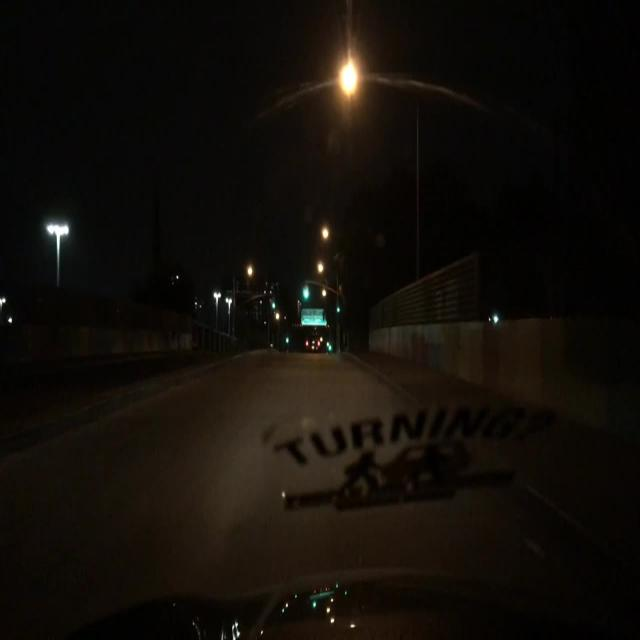car: (304, 333, 322, 354)
sign: (300, 306, 326, 328)
traffic light: (302, 282, 310, 300), (335, 300, 343, 316), (284, 333, 291, 346), (271, 293, 276, 310)
